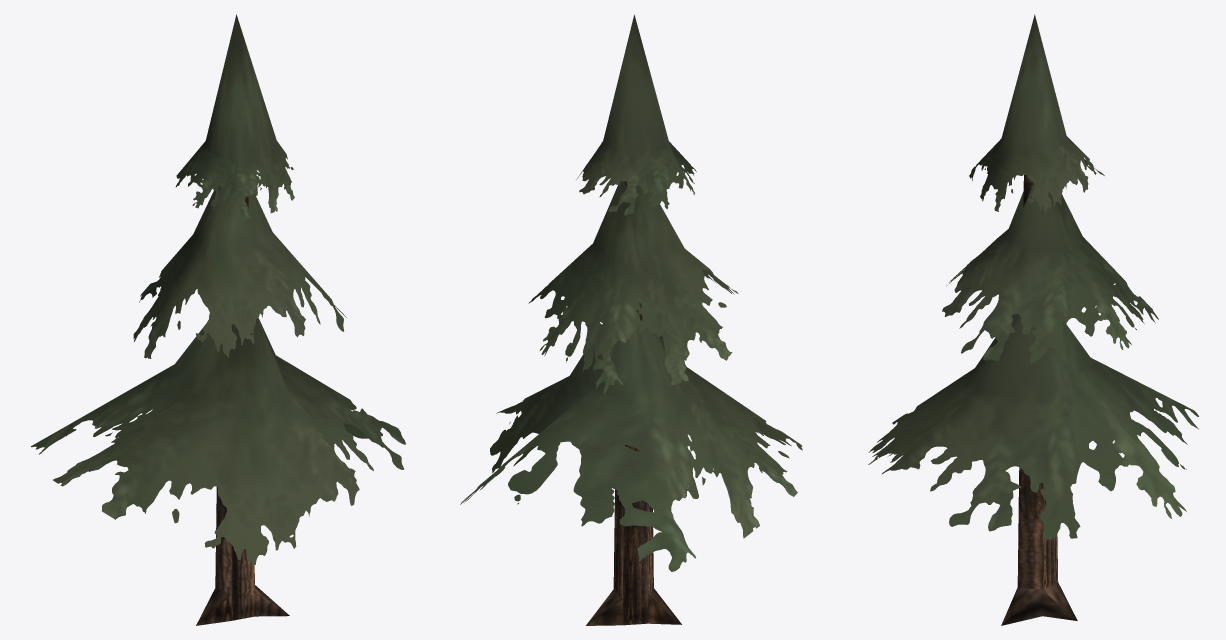
File: Tree S.glb
The picture shows the model from 3 angles, left to right: view 1: azimuth 30°, elevation 25°; view 2: azimuth 150°, elevation 25°; view 3: azimuth 270°, elevation 25°; orthographic projection.
Parts seen in each view (by area): view 1: Cone.001; view 2: Cone.001; view 3: Cone.001.
Boxes of the visible parts, bbox=[...] form: Cone.001: bbox=[31, 14, 405, 625]; Cone.001: bbox=[460, 14, 802, 625]; Cone.001: bbox=[868, 14, 1198, 625].
Size of the model in its own units: 6.55 by 11.83 by 6.46.
Materials: 2 (2 with a texture image).
